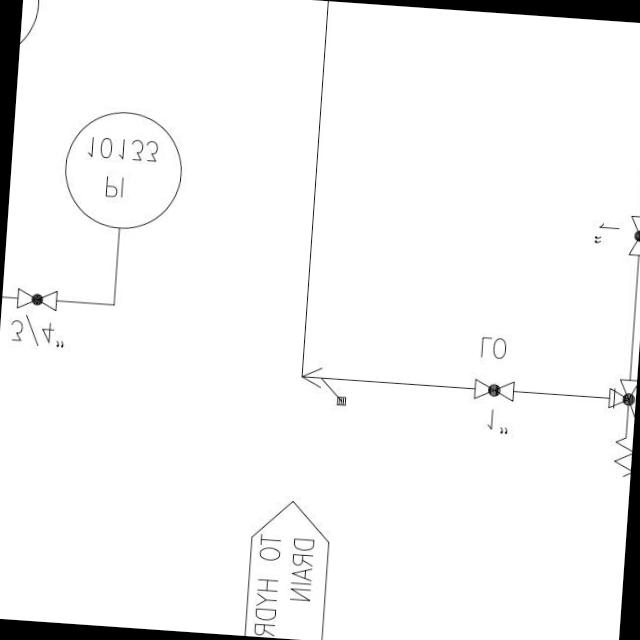BV2: (9, 283, 65, 313), (466, 376, 516, 403), (621, 212, 640, 261)
RPV: (596, 372, 637, 482)
